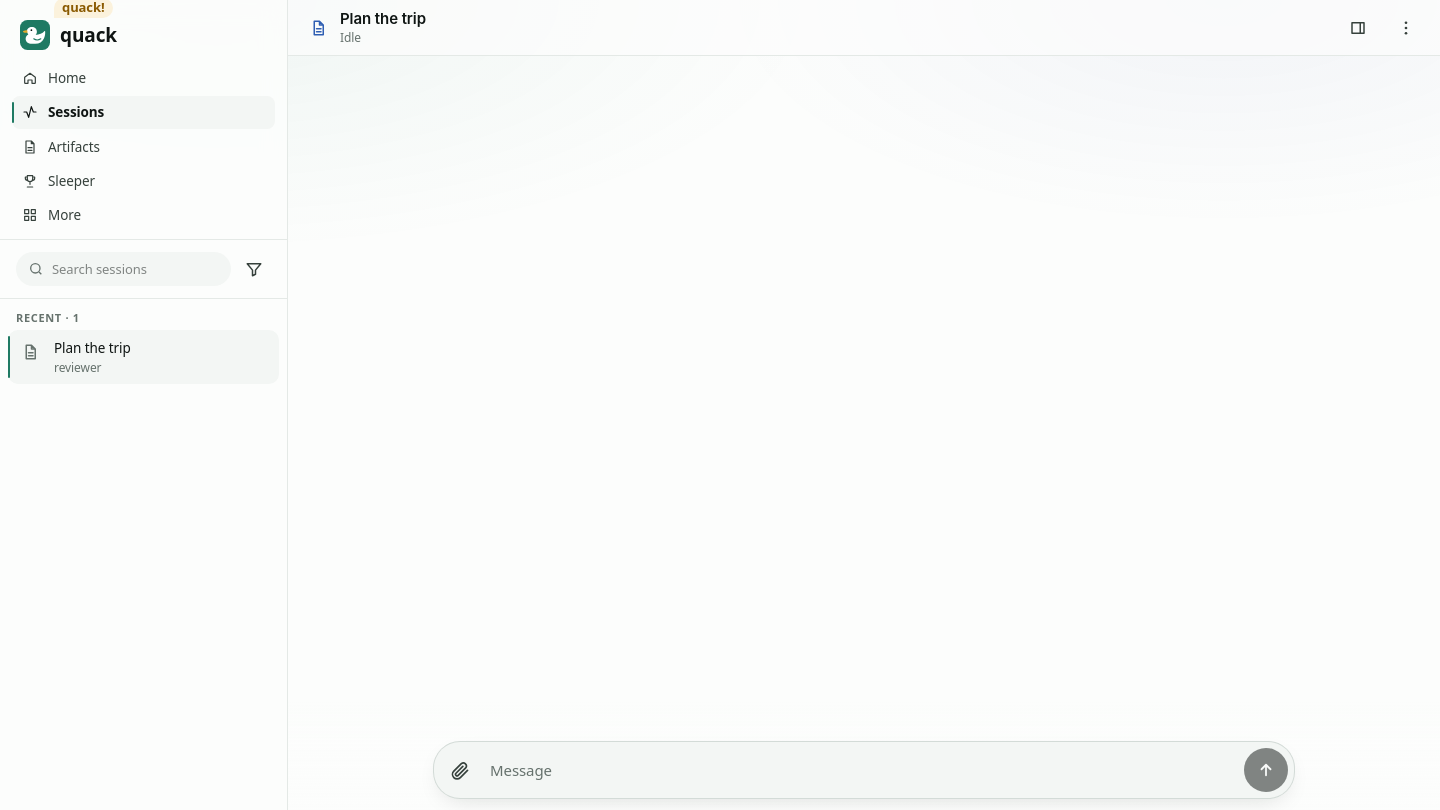
Rename opens a dialog on the title field and Escape returns focus to the menu button
Click the button named "More actions" at x=1406, y=28, box [1384,6,1428,50]
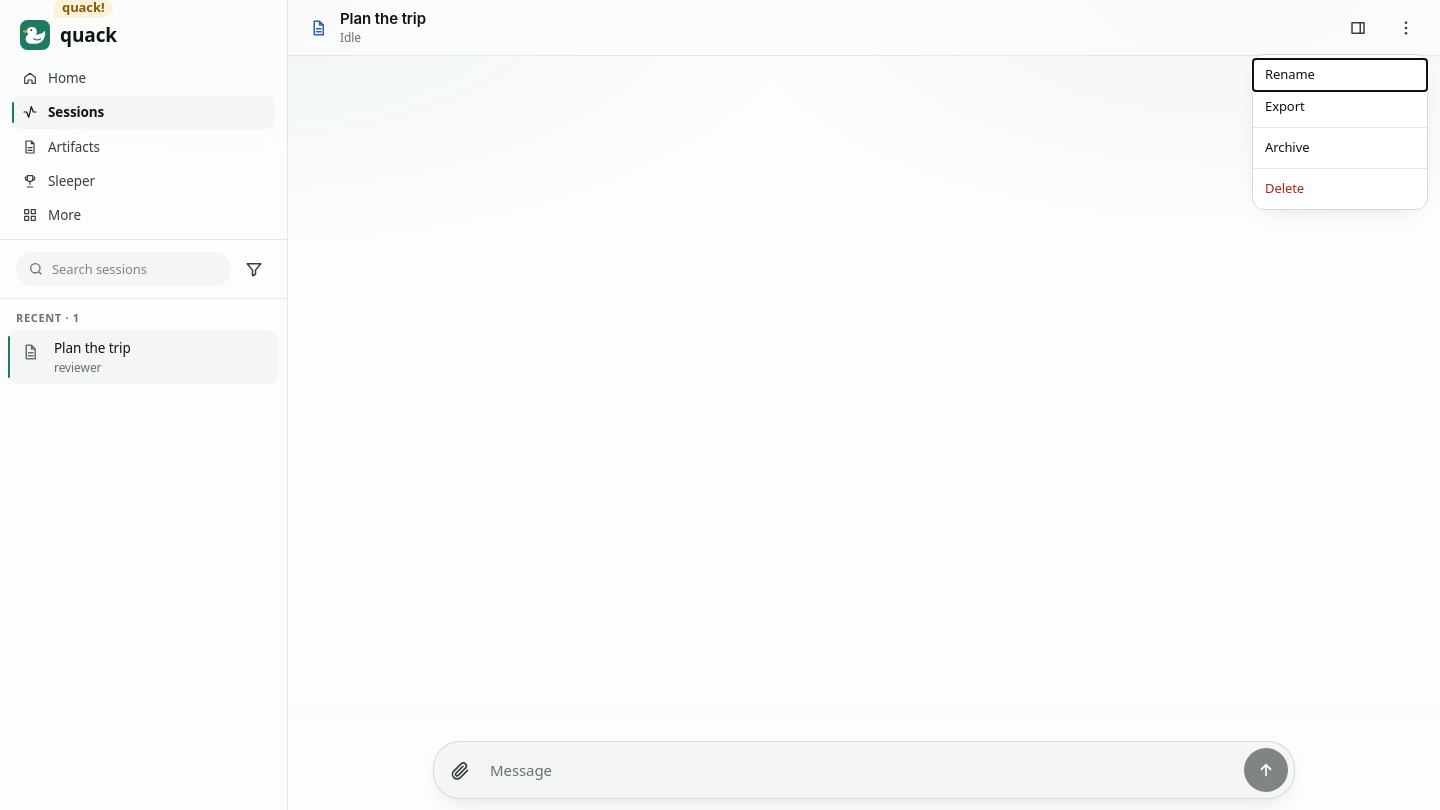
Click the menu item "Rename" at x=1340, y=74, box [1253,58,1427,90]
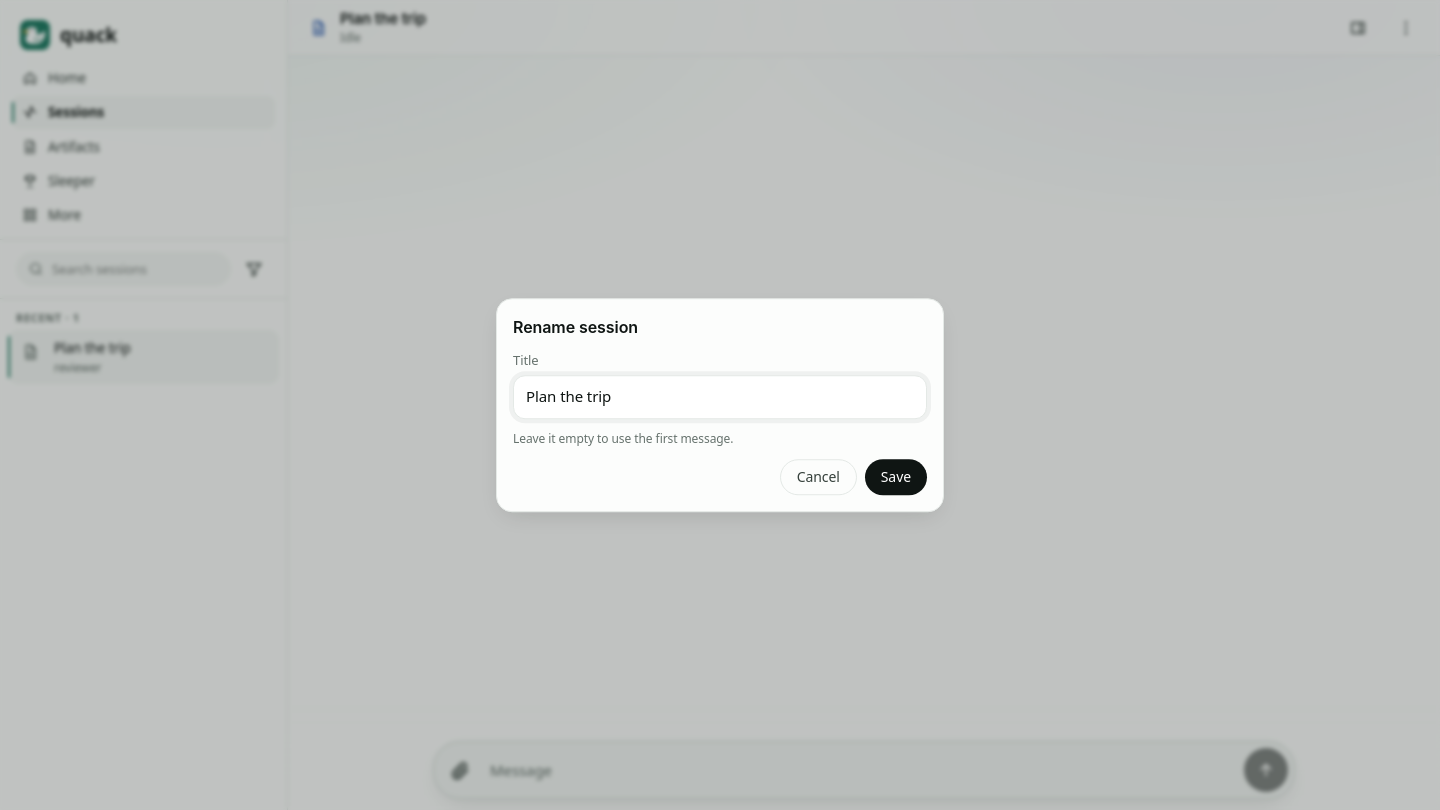
Press Shift+Tab
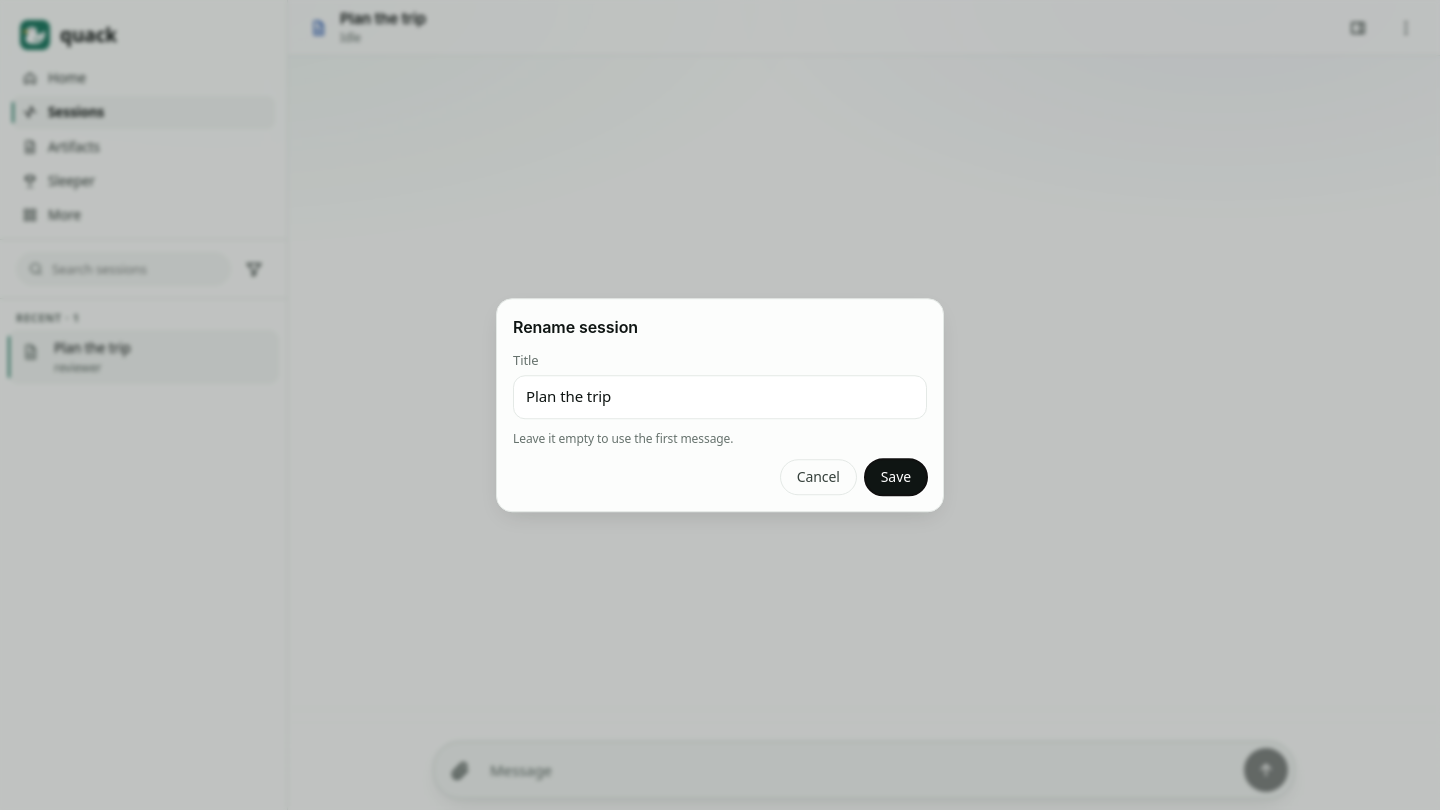
Press Escape
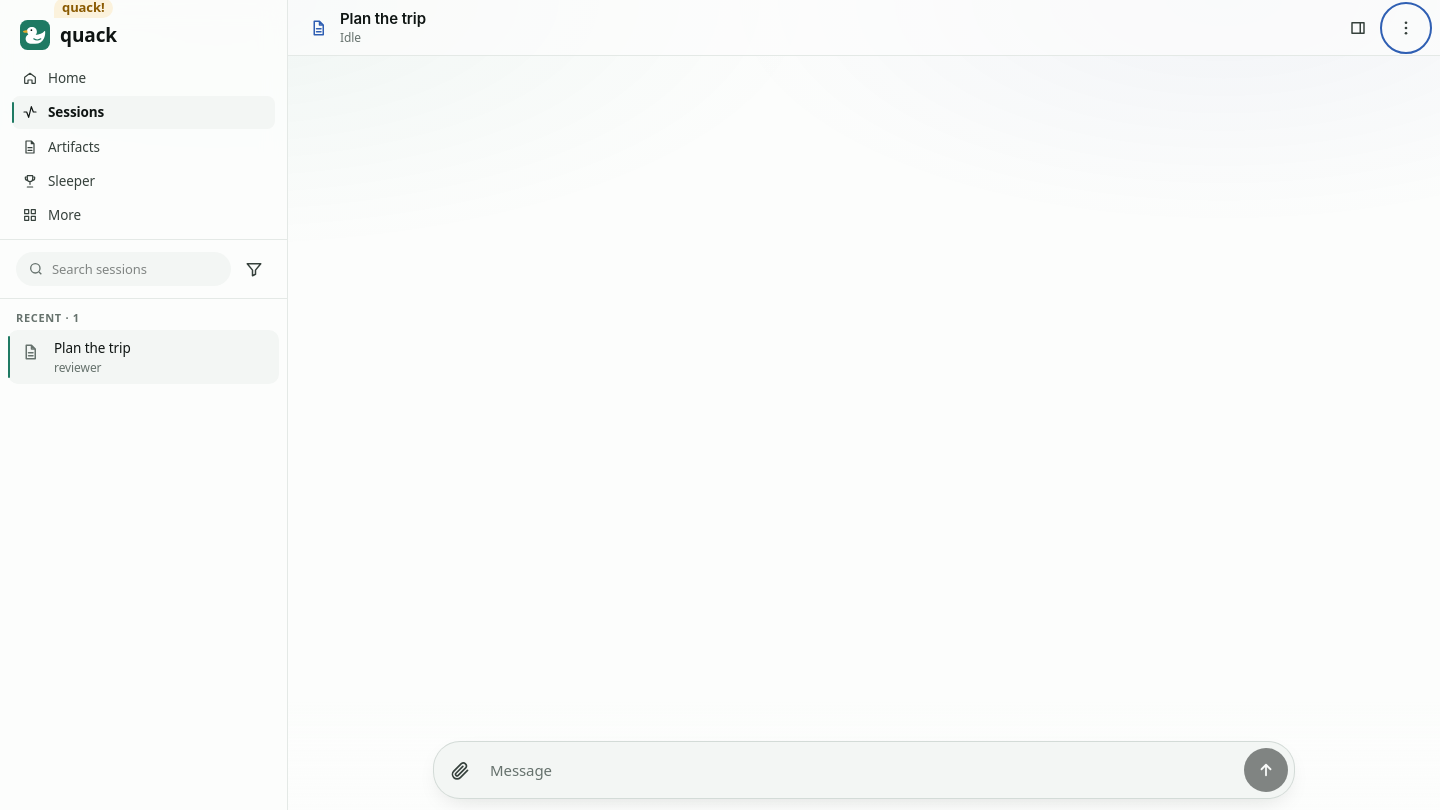
Expected: the dialog is gone
